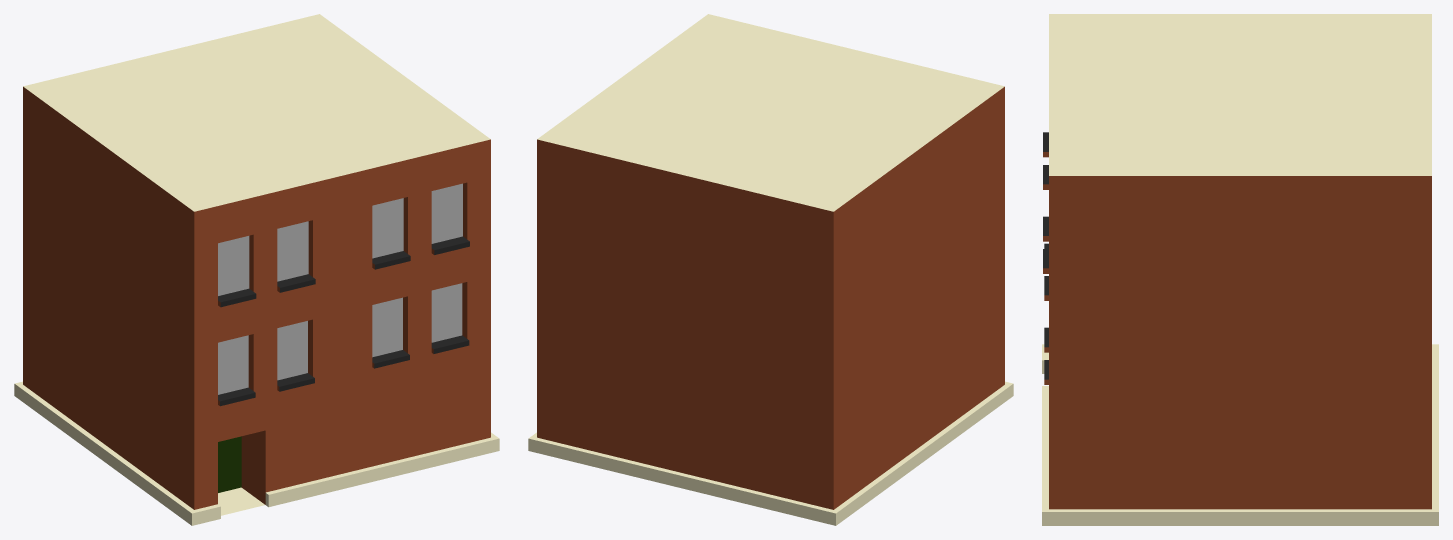
Rendered from residential-basic-ground.glb.
3 views of the same model, side by side, from view 1: azimuth 30°, elevation 25°; view 2: azimuth 150°, elevation 25°; view 3: azimuth 270°, elevation 25° (orthographic). The views are drawn at different scales.
Visible parts, largest first — view 1: Cube; view 2: Cube; view 3: Cube.
Boxes of the visible parts, x1=… form: Cube: x1=14, y1=14, x2=499, y2=525; Cube: x1=528, y1=14, x2=1013, y2=525; Cube: x1=1042, y1=14, x2=1438, y2=525.
Size of the model in its own units: 2.07 by 2 by 2.07.
Materials: 1 (1 with a texture image).
